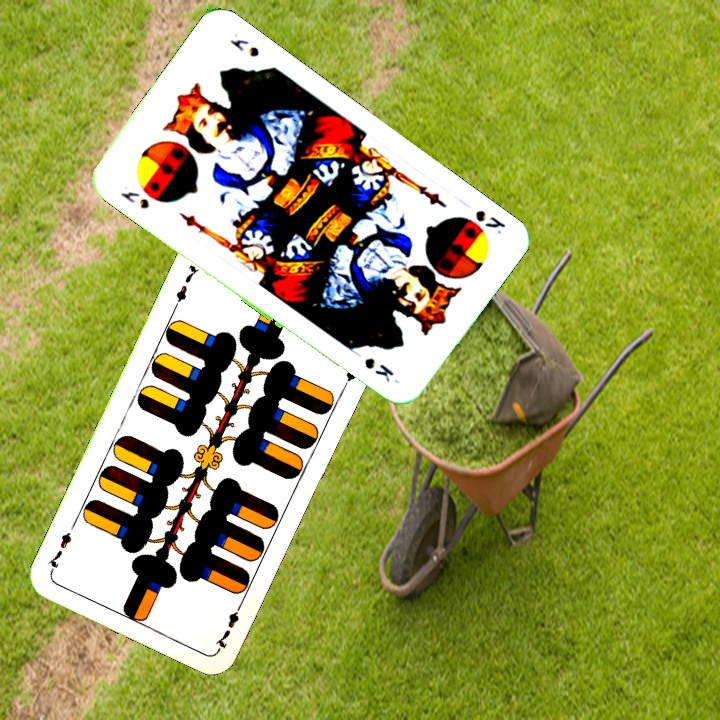E7: (211, 597, 246, 652), (170, 256, 202, 311)
SK: (471, 205, 509, 237), (116, 187, 152, 212)
